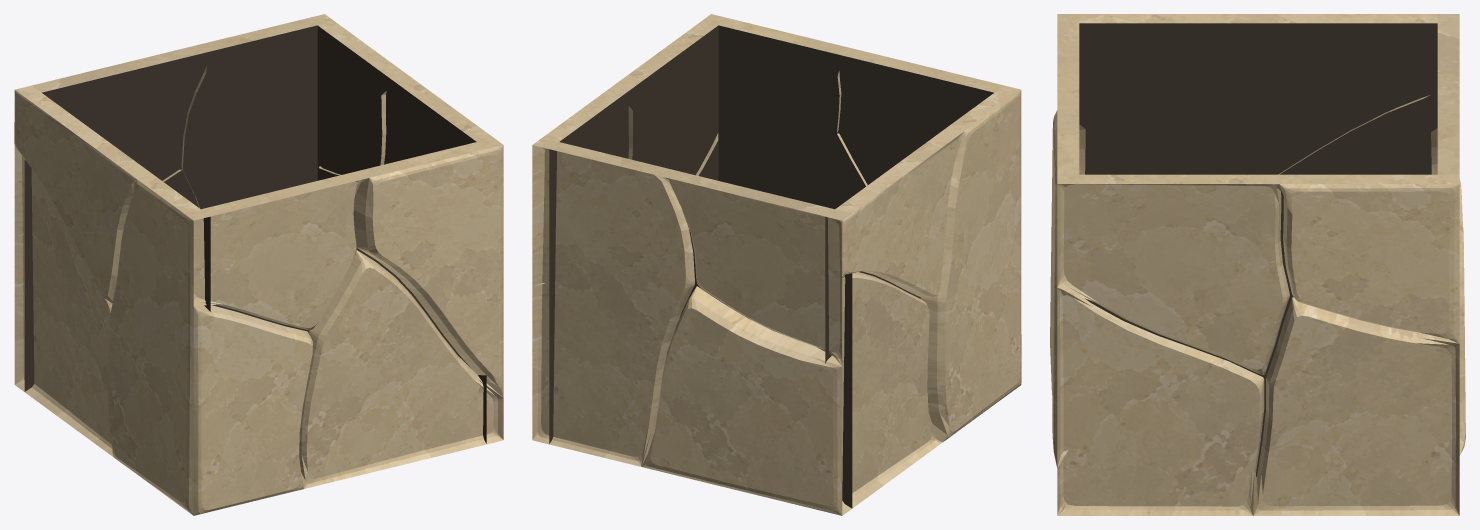
File: ground_island_07.glb
3 renders of one model, left to right at view 1: azimuth 30°, elevation 25°; view 2: azimuth 150°, elevation 25°; view 3: azimuth 270°, elevation 25°, orthographic. The views are drawn at different scales.
Parts seen in each view (by area): view 1: GroundIsland07_Body; view 2: GroundIsland07_Body; view 3: GroundIsland07_Body.
Part boxes in pixels (x1,y1,x2,y2): GroundIsland07_Body: (14, 14, 503, 515); GroundIsland07_Body: (532, 14, 1021, 515); GroundIsland07_Body: (1050, 14, 1465, 515).
Bounding box in the file's own units: 1.03 × 0.91 × 1.03.
Materials: 16 (15 with a texture image).
